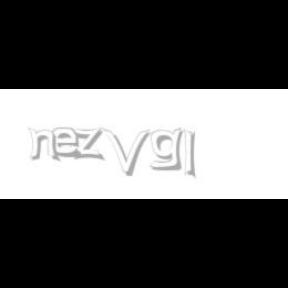V: (102, 128, 150, 176)
e: (53, 128, 86, 158)
g: (150, 128, 186, 171)
l: (184, 128, 200, 180)
n: (27, 128, 61, 162)
z: (71, 128, 107, 160)
